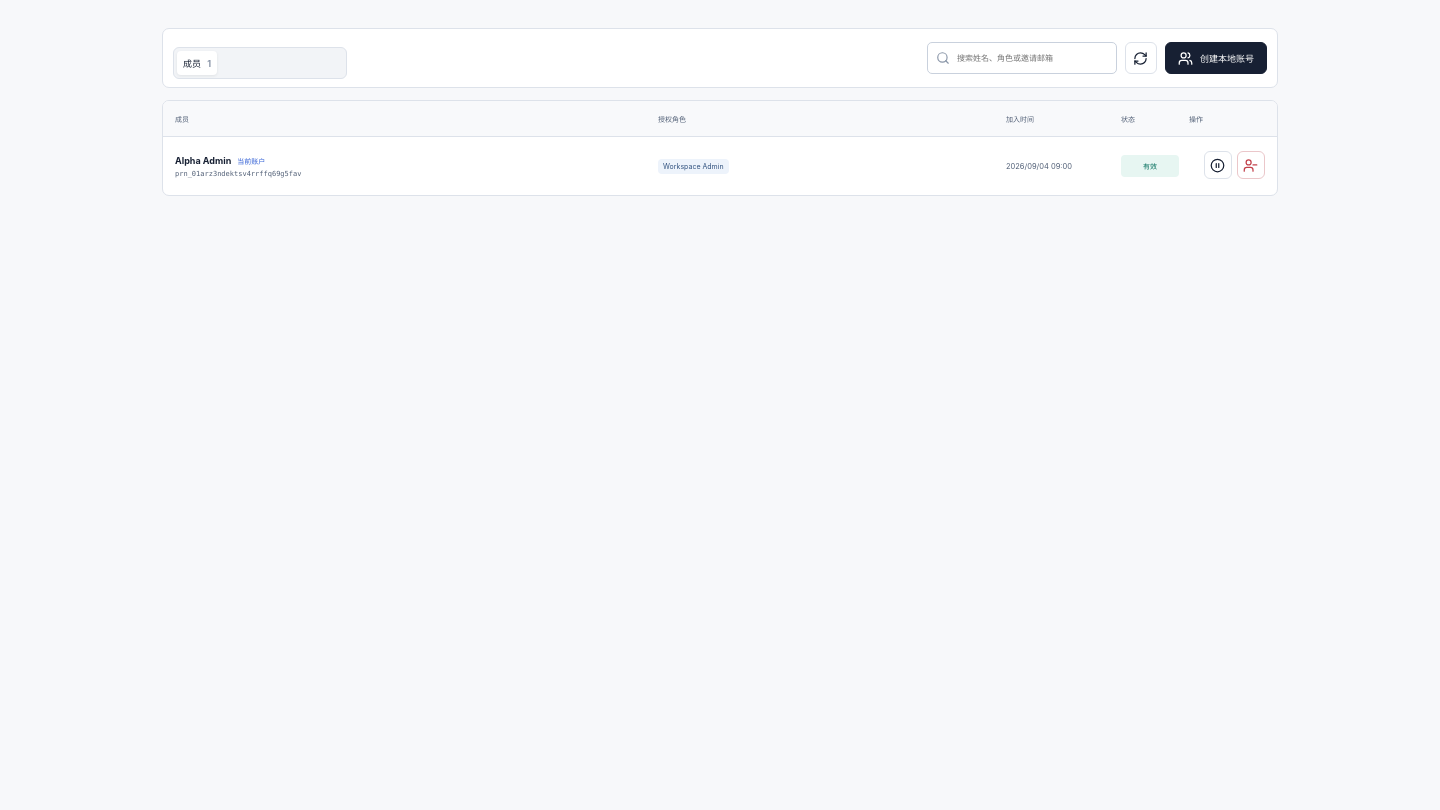
real member administration › keeps the final administrator unchanged when the server rejects suspension
Click the button named "停用 Alpha Admin": (1218, 165) [1204, 151, 1232, 179]
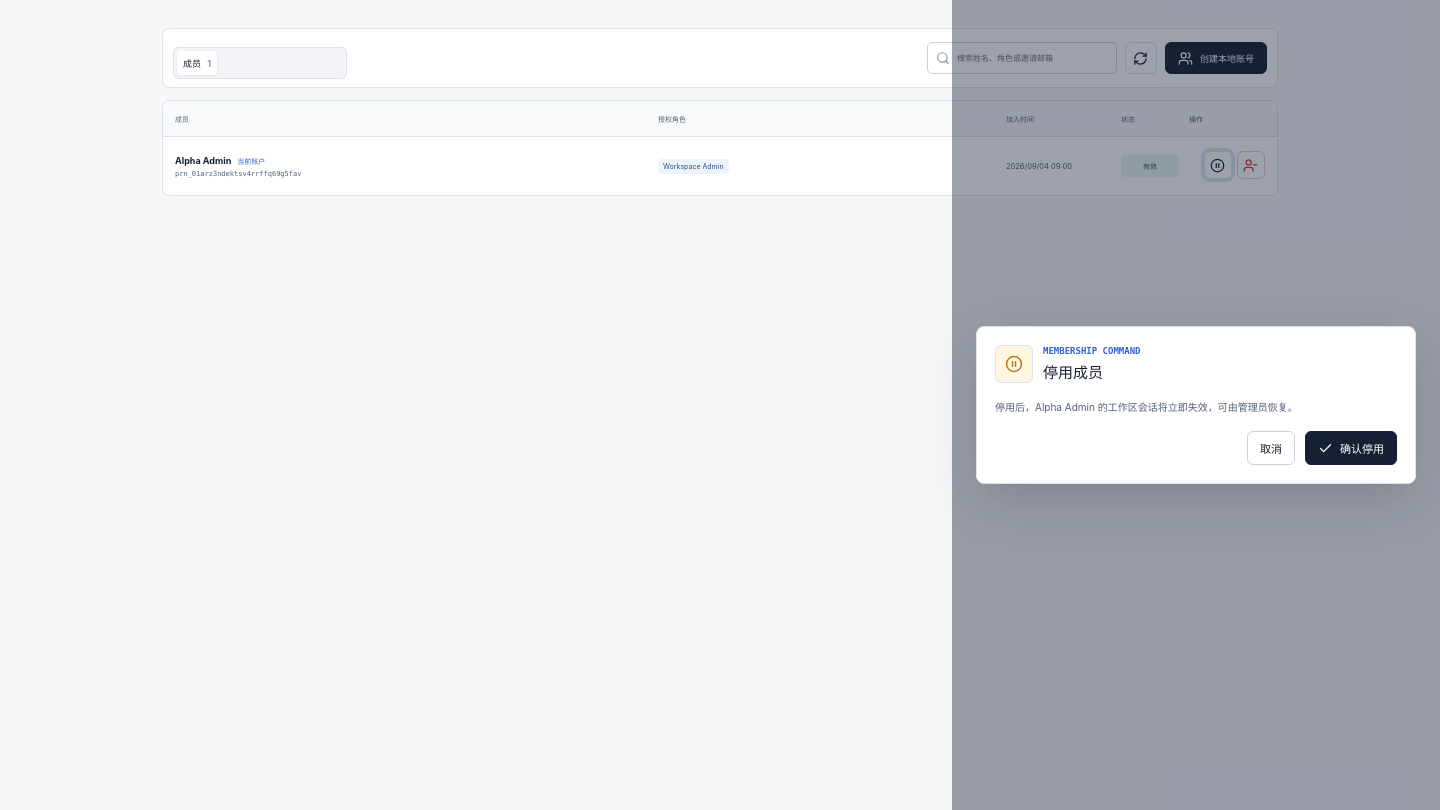
Click the button "确认停用": (1351, 448) [1305, 431, 1397, 465]
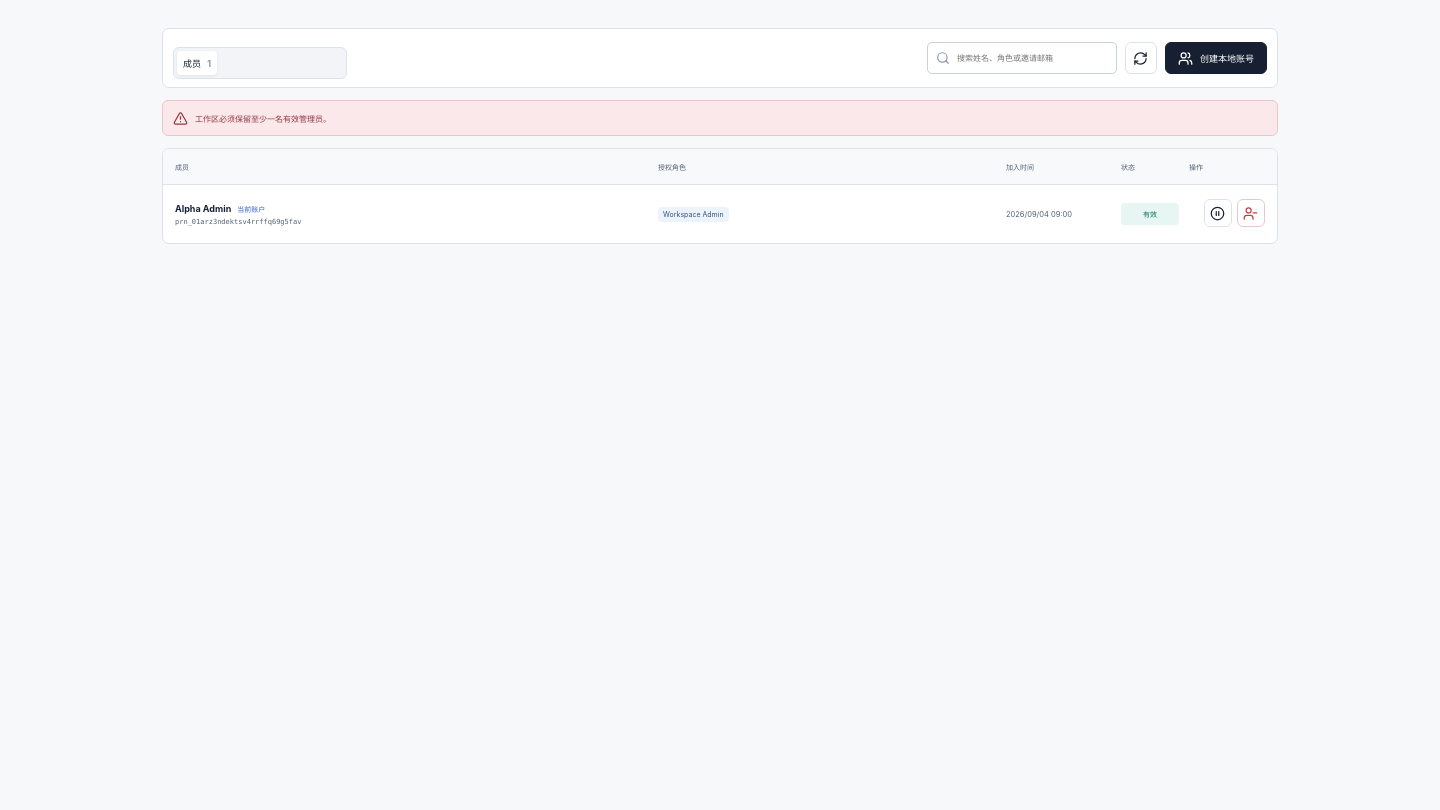
Expected: the text "有效" is shown, [1121, 203, 1179, 225]
Expected: the message shows "工作区必须保留至少一名有效管理员", [195, 114, 331, 124]
